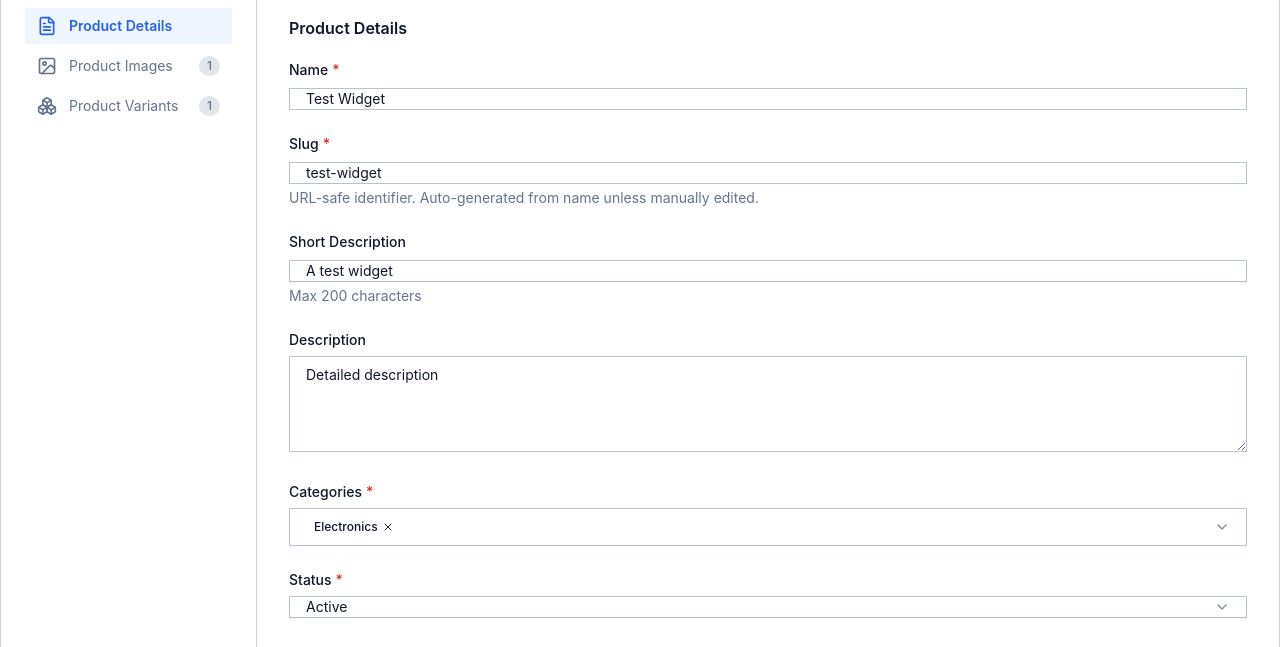
Test: ProductEditPage › Validation blocks submission (Req 2.5) › blocks submission when price is changed to non-positive value
This screenshot has width=1280, height=647.
Expected: the field with placeholder "Product name" holds "Test Widget", [289,88,1247,110]
Click the tab "Product Variants 1" at x=128, y=106, box [25,88,232,124]
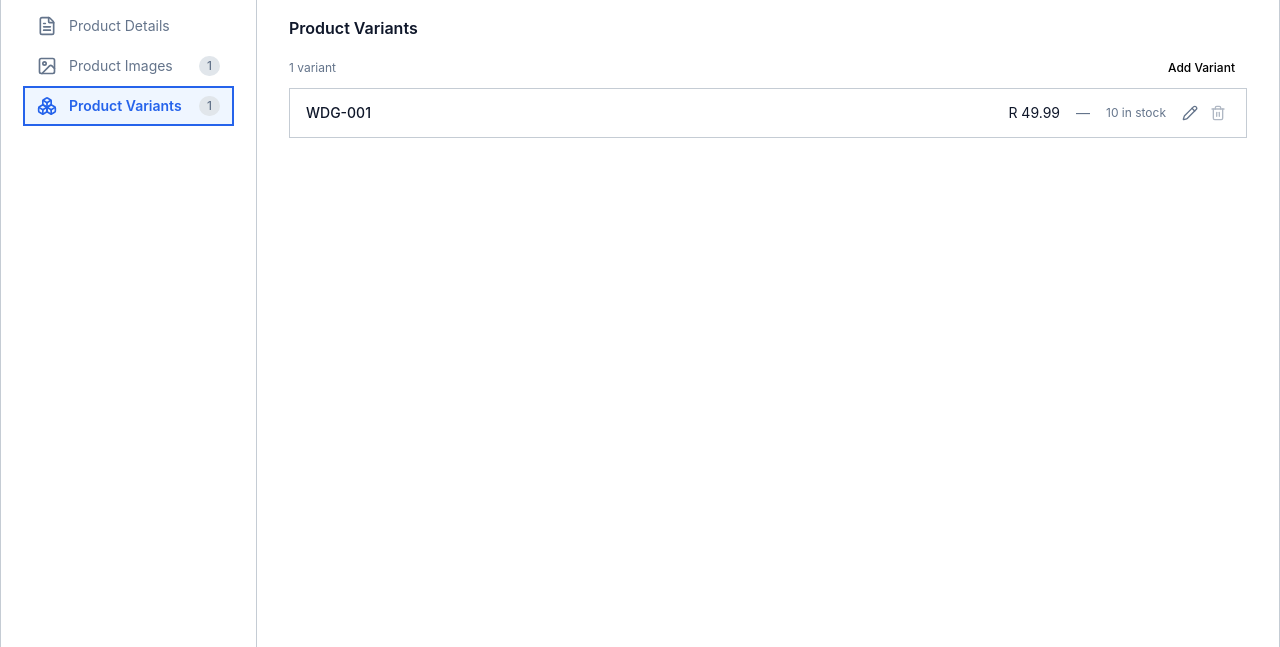
Click the button with test id "edit-variant-0" at x=1190, y=113, box [1178,101,1202,125]
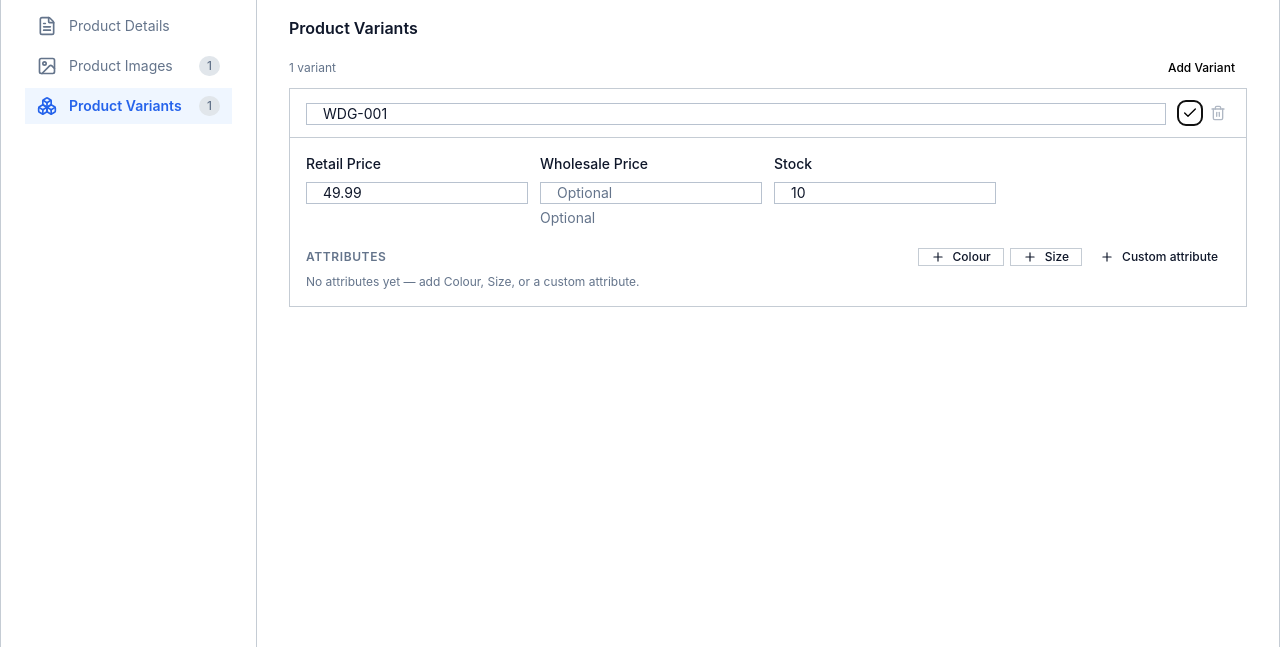
Replace the text in the field showing "49.99" with "0" at x=417, y=193, box [306,182,528,204]
(page scrolled)
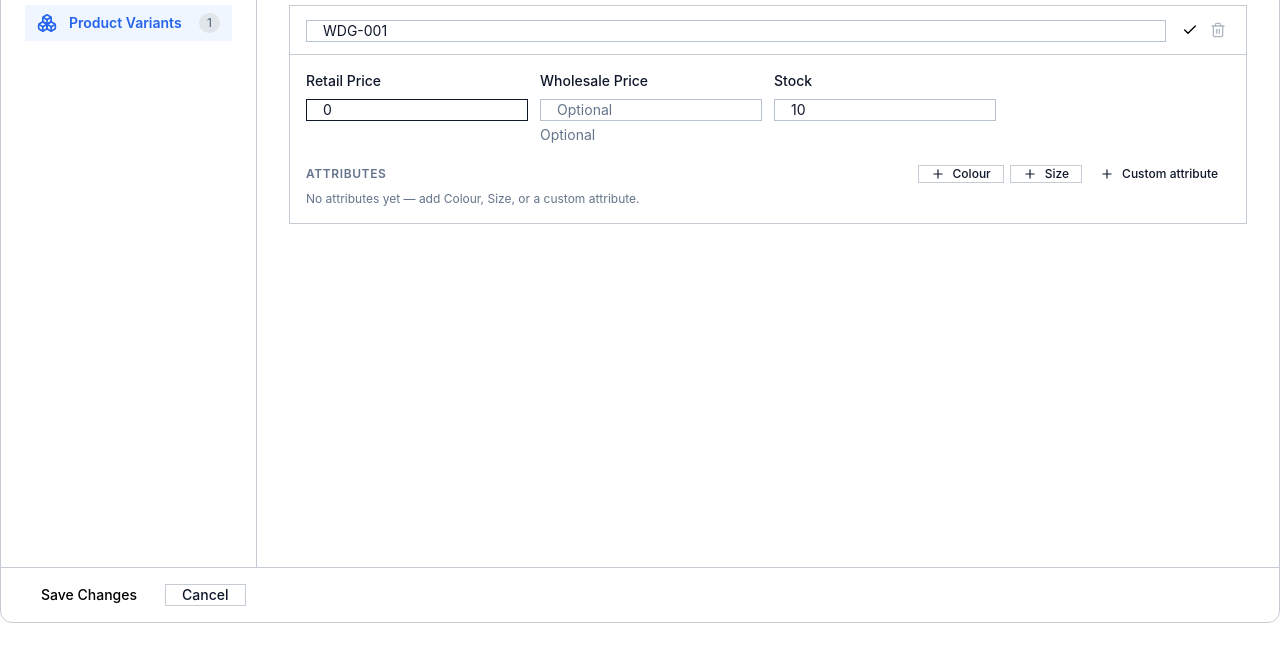
Click the button "Save Changes" at x=89, y=595, box [25,585,153,605]
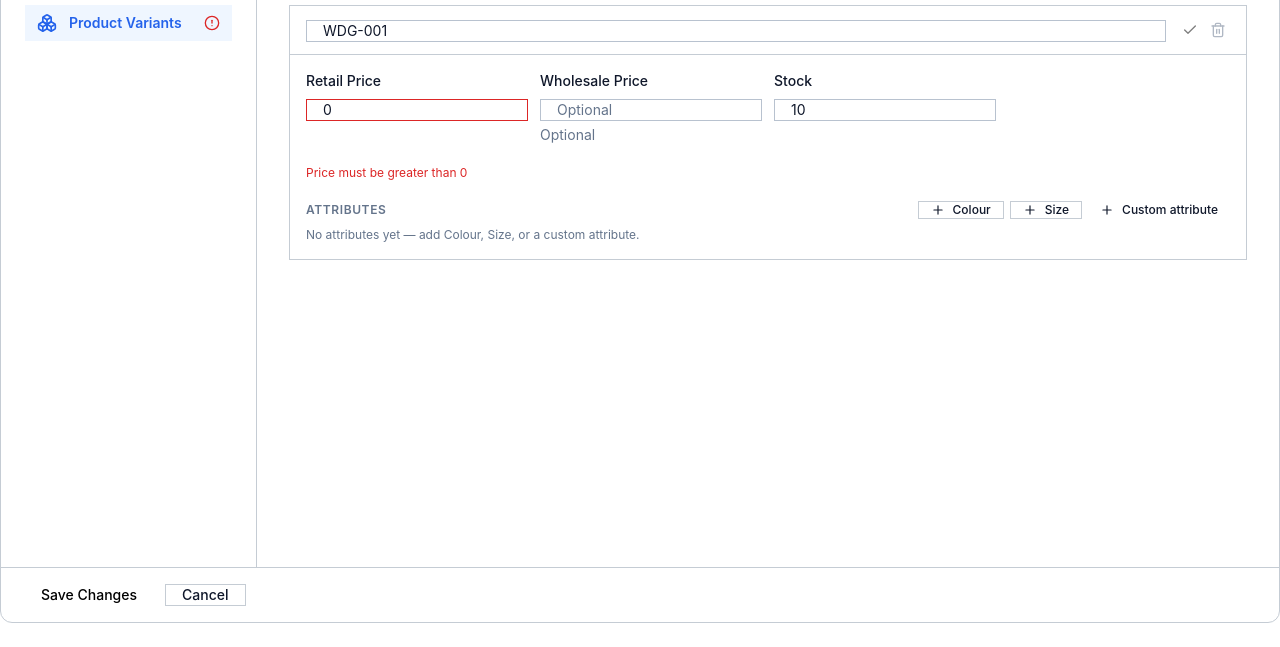
Result: the text "Price must be greater than 0" is shown at [306,165,467,180]
